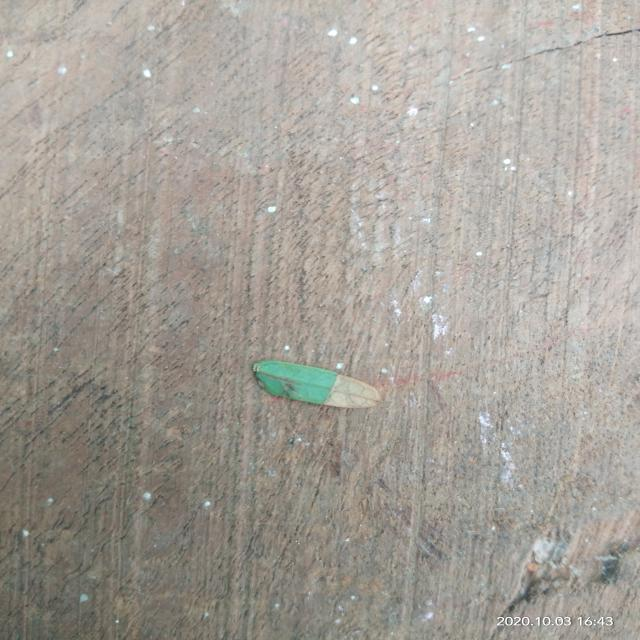defectedtamarind: (325, 375, 380, 408)
tamarind: (253, 360, 380, 408)
